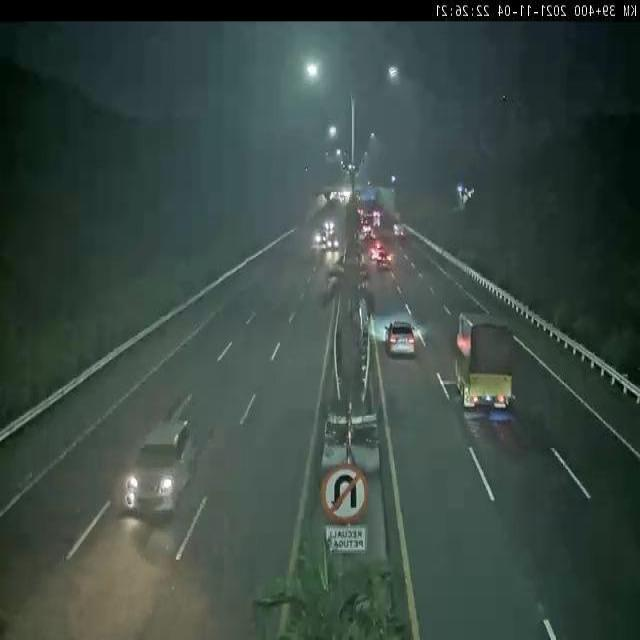Car: (106, 408, 206, 534), (454, 302, 520, 425), (383, 310, 415, 361), (374, 247, 396, 274), (326, 230, 342, 252)
